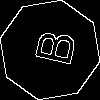B: (25, 25, 77, 68)
